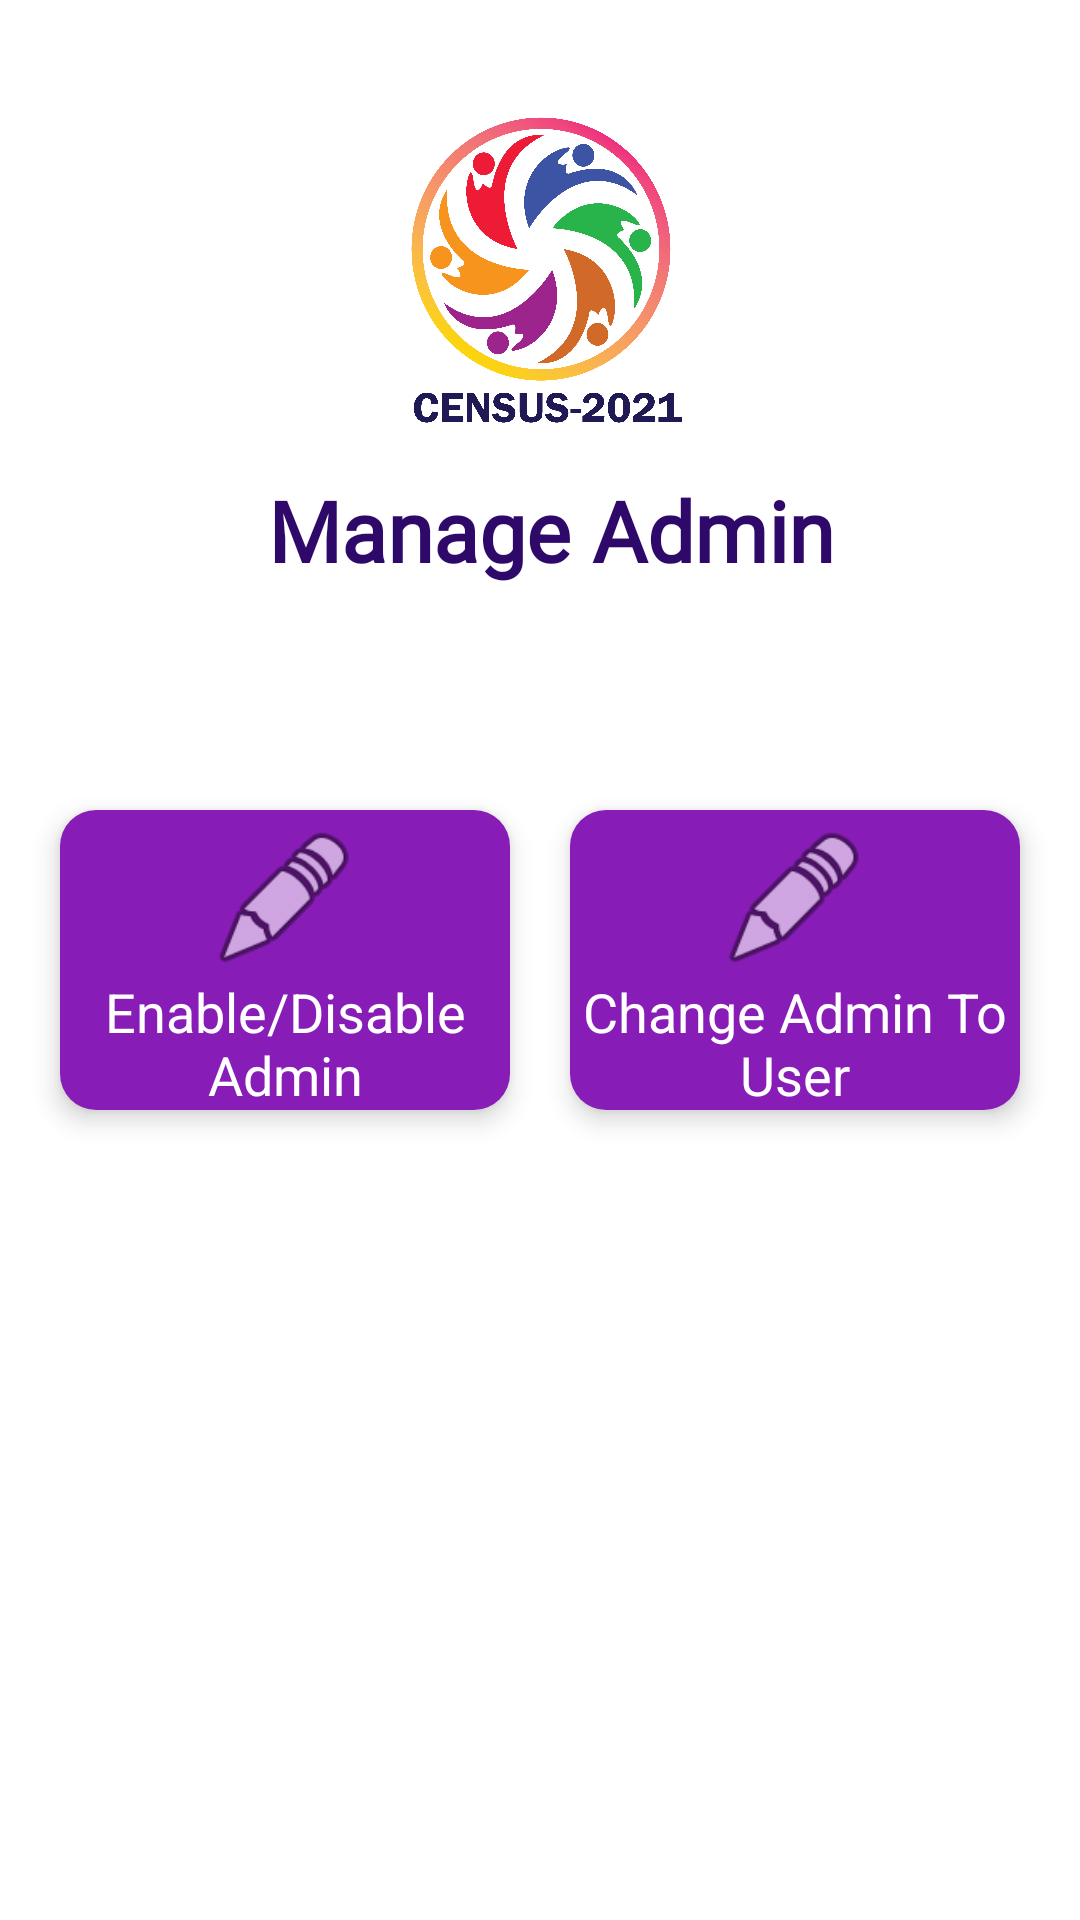

Icon click points for this 1080*1920 phone screenshot, format (x,y):
edit: (284,897), (794,897)
